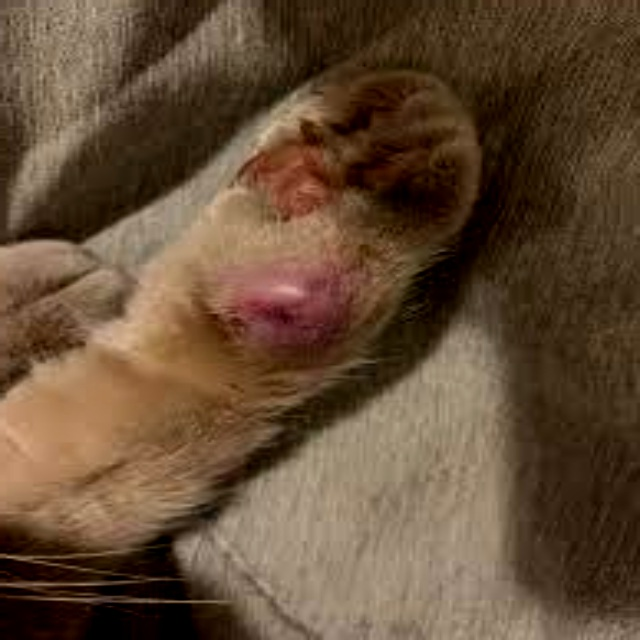lump_and_bump: (215, 272, 349, 355)
